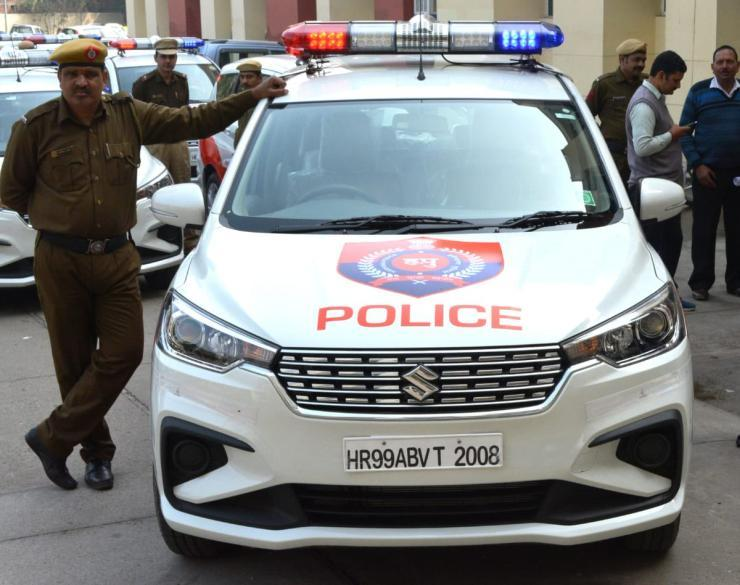Emergency-Vehicles: (177, 19, 672, 546)
